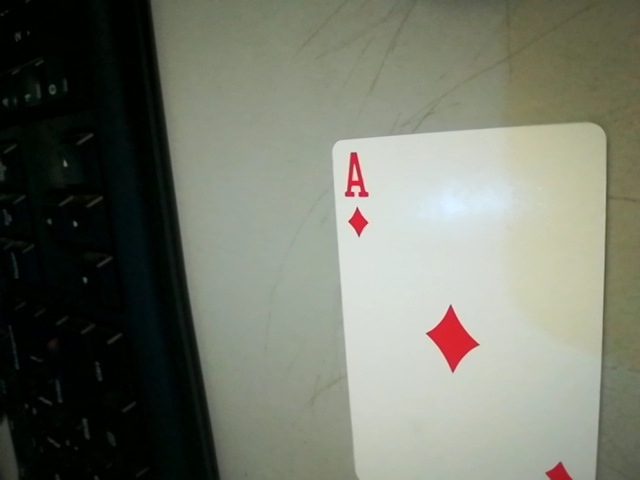fk a: (331, 143, 377, 245)
